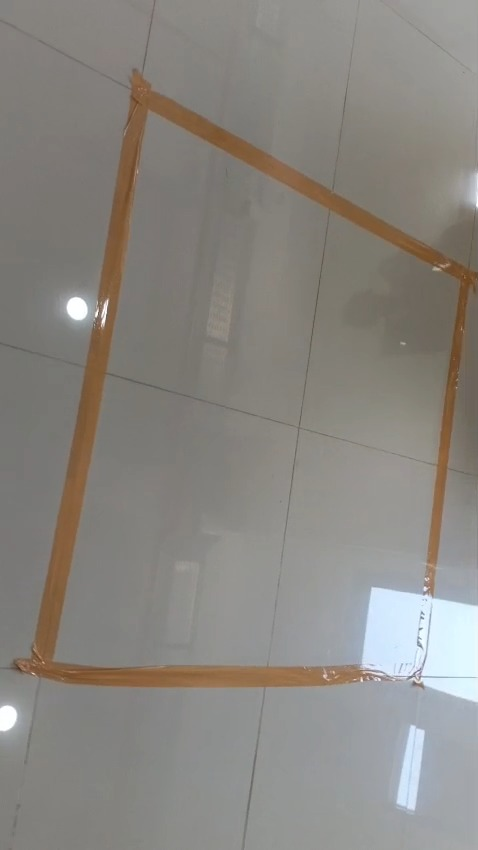floor marking: (15, 69, 477, 688)
